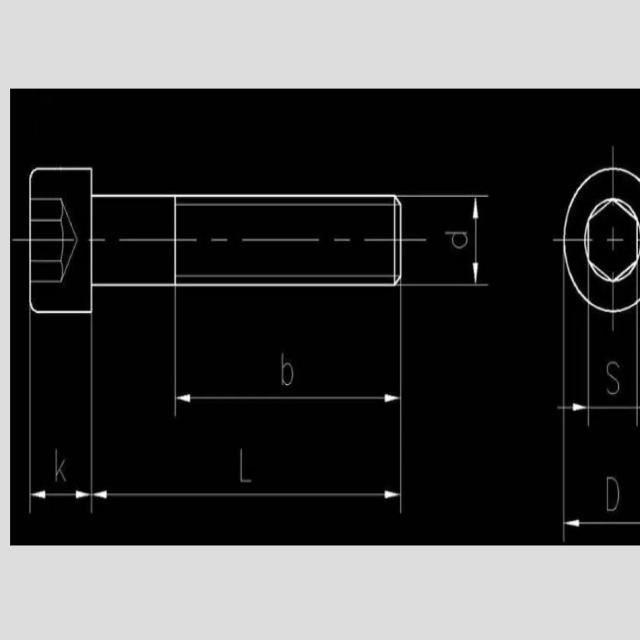marking_line: (94, 489, 399, 500), (179, 391, 399, 405), (564, 516, 640, 528), (473, 197, 482, 285), (31, 489, 90, 502), (556, 404, 587, 414)
